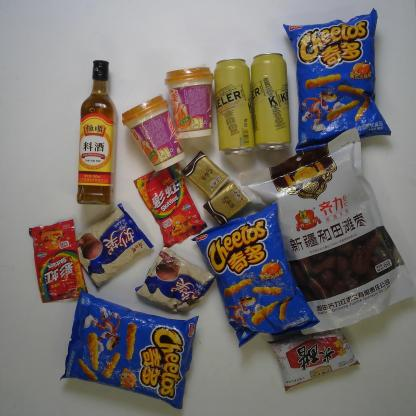Alcohol: (250, 51, 292, 152), (213, 58, 256, 156)
Candy: (134, 161, 208, 249), (29, 218, 88, 304)
Dessert: (76, 203, 155, 289), (134, 244, 216, 313)
Dried Food: (237, 127, 415, 336)
Instant Drink: (122, 94, 186, 175), (162, 66, 216, 140)
Puffed Food: (190, 202, 320, 348), (60, 286, 199, 410), (283, 7, 392, 155)
Seasoner: (76, 59, 119, 206), (268, 328, 361, 392)
Tissue: (180, 149, 231, 199), (202, 180, 250, 227)
